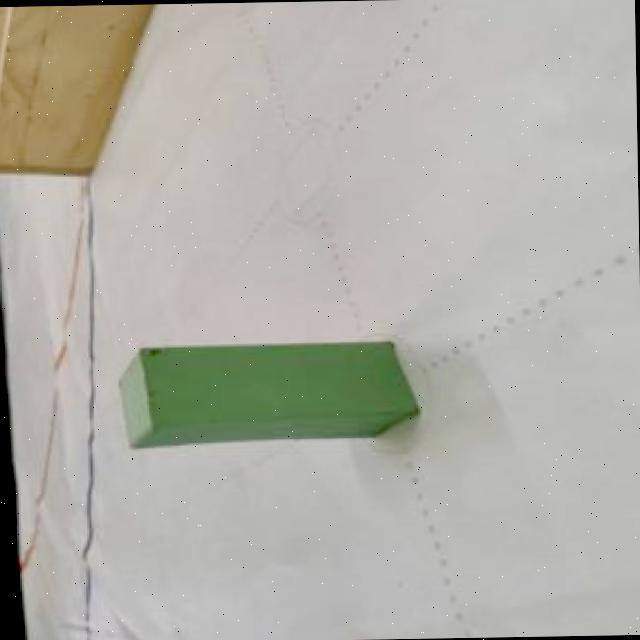greenbox: (112, 340, 426, 451)
